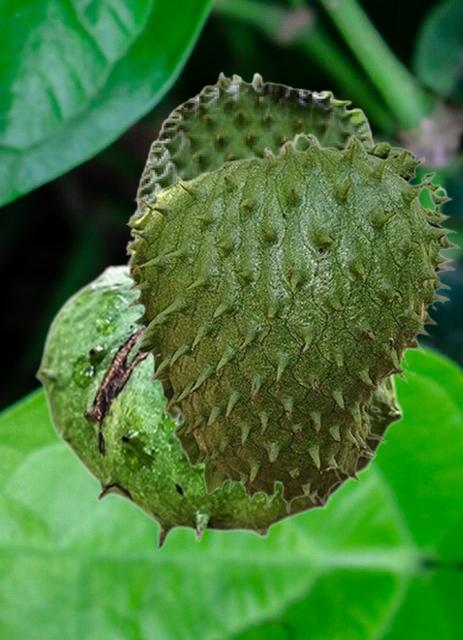guyabano: (125, 131, 460, 514), (35, 261, 403, 551), (132, 71, 374, 214)
